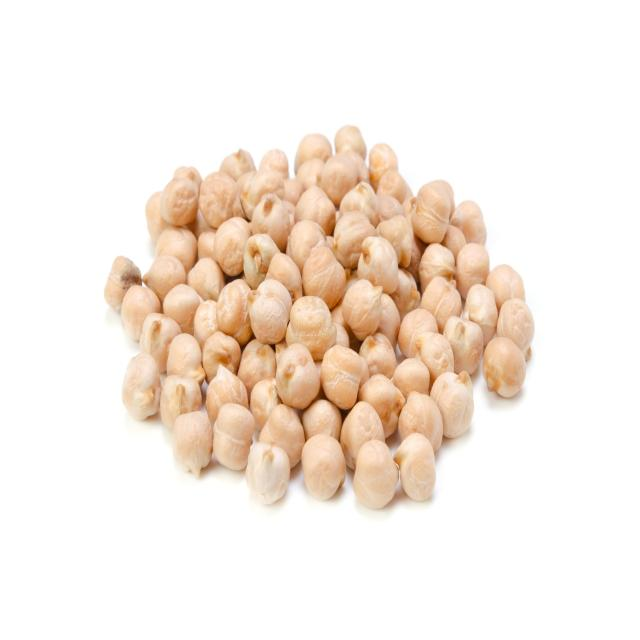garbanzos: (96, 117, 538, 527)
